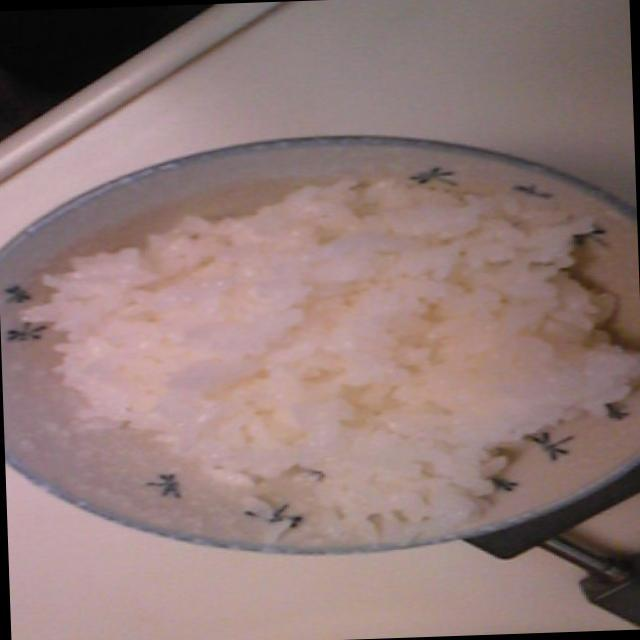Rice: (64, 189, 604, 518)
